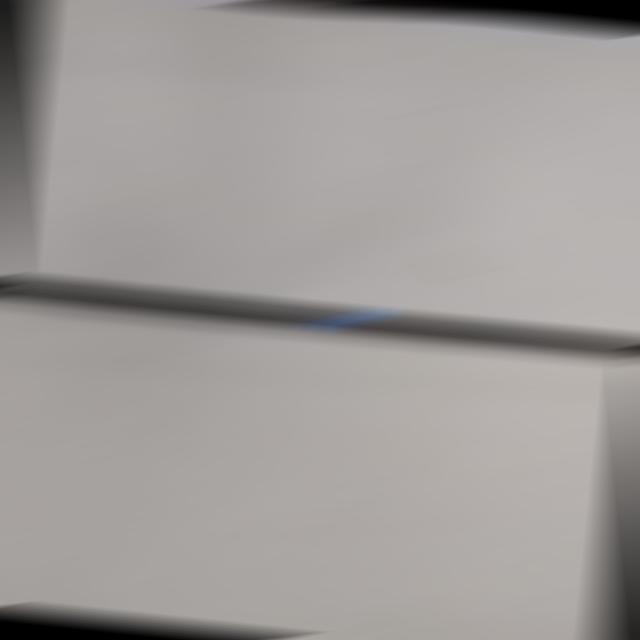blue: (315, 312, 376, 325)
